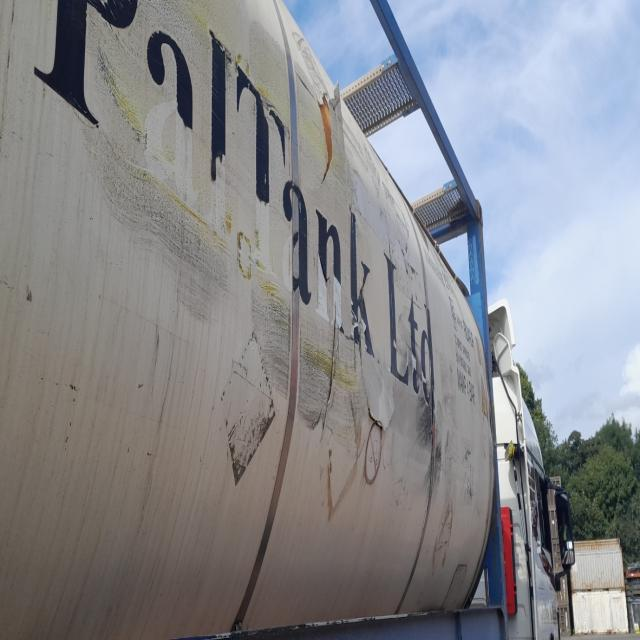dent: (248, 59, 346, 399), (84, 124, 168, 238)
